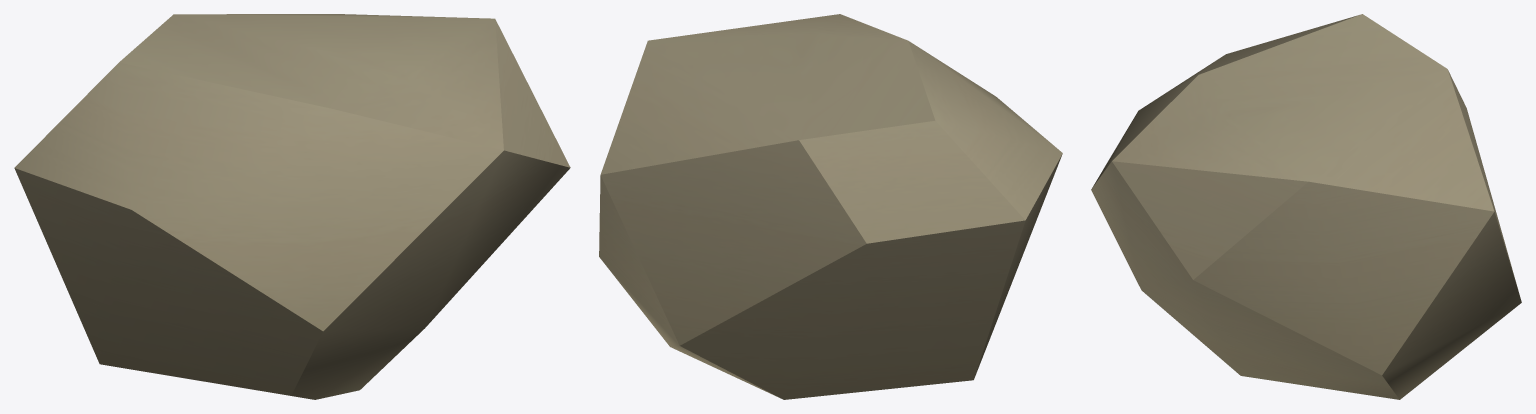
Rendered from Rock_little_02.fbx.
3 renders of one model, left to right at view 1: azimuth 30°, elevation 25°; view 2: azimuth 150°, elevation 25°; view 3: azimuth 270°, elevation 25°, orthographic. The views are drawn at different scales.
Visible parts, largest first — view 1: Rock_little_02; view 2: Rock_little_02; view 3: Rock_little_02.
Part boxes in pixels (<box>): Rock_little_02: <box>14,14,570,399</box>; Rock_little_02: <box>599,14,1062,399</box>; Rock_little_02: <box>1091,14,1521,399</box>.
Bounding box in the file's own units: 89.21 × 59.78 × 80.78.
